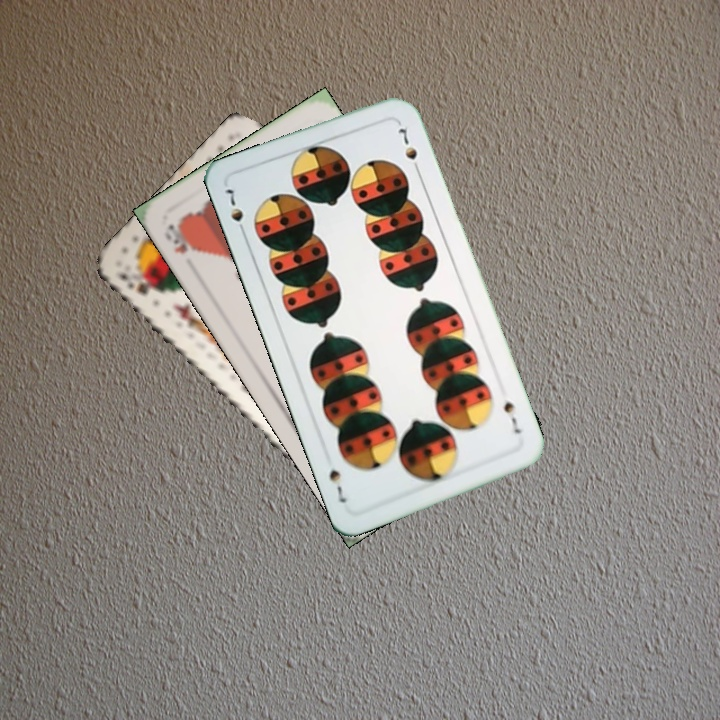HO: (160, 219, 201, 257)
S7: (220, 184, 249, 240), (497, 389, 524, 437)
SK: (114, 268, 152, 297)
